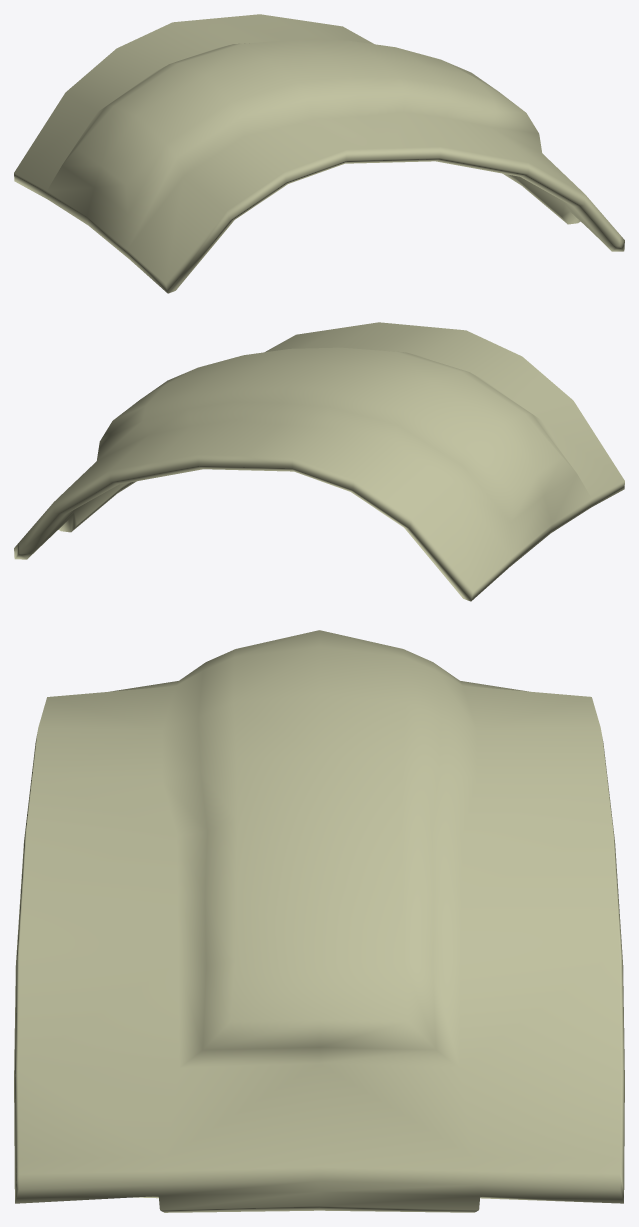
Rendered from boat_hatch02.fbx.
The picture shows the model from 3 angles, top to bottom: view 1: azimuth 30°, elevation 25°; view 2: azimuth 150°, elevation 25°; view 3: azimuth 270°, elevation 25°; orthographic projection. The views are drawn at different scales.
Parts seen in each view (by area): view 1: boat_hatch01; view 2: boat_hatch01; view 3: boat_hatch01.
Part boxes in pixels (box(x1,y1,x2,y2)): boat_hatch01: box(14, 14, 624, 293); boat_hatch01: box(14, 322, 624, 601); boat_hatch01: box(14, 630, 624, 1212).
Bounding box in the file's own units: 34.38 × 13.97 × 24.93.
